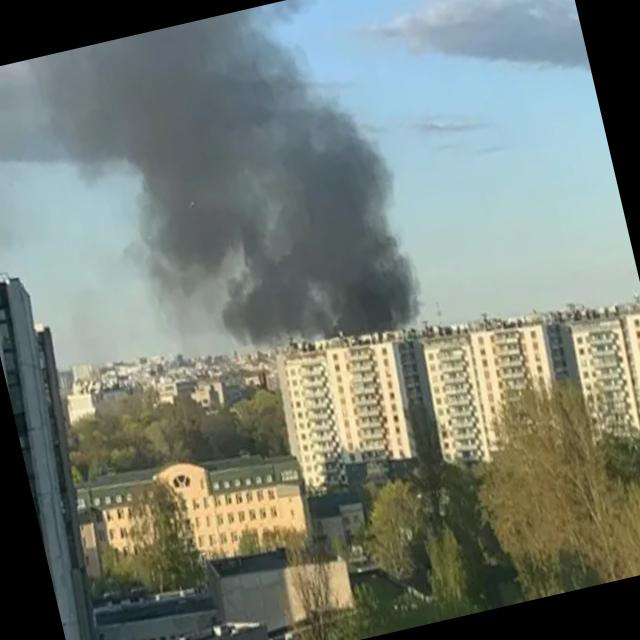Smoke: (116, 33, 430, 381)
